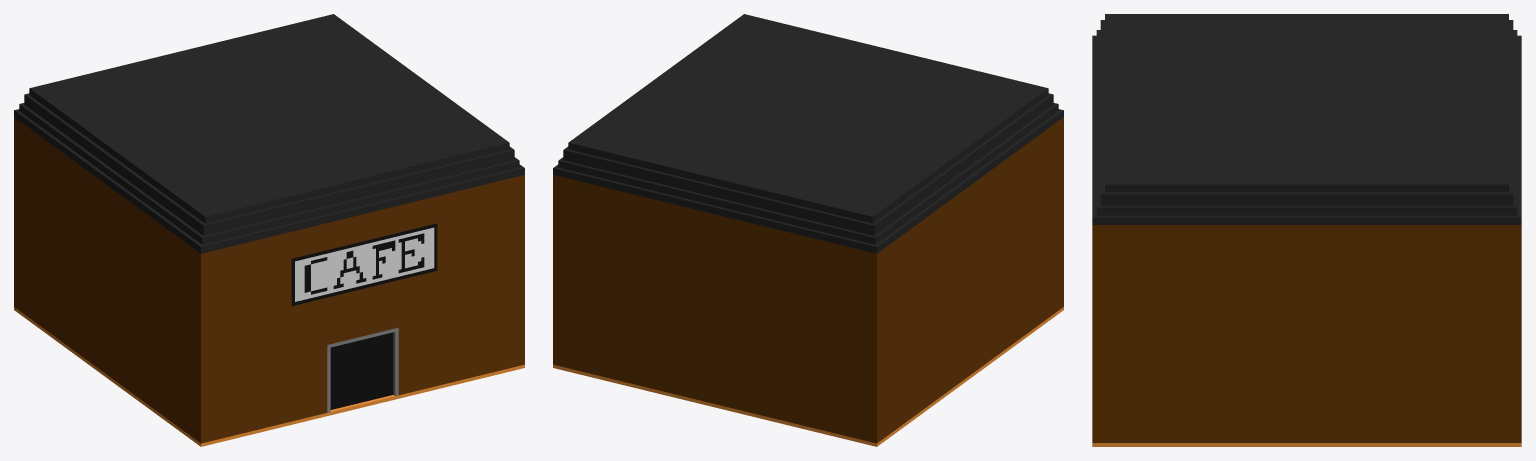
Rendered from Café filled.obj.
3 views of the same model, side by side, from view 1: azimuth 30°, elevation 25°; view 2: azimuth 150°, elevation 25°; view 3: azimuth 270°, elevation 25° (orthographic). The views are drawn at different scales.
Visible parts, largest first — view 1: filled; view 2: filled; view 3: filled.
Part boxes in pixels (x1,y1,x2,y2): filled: [14, 14, 524, 446]; filled: [553, 14, 1063, 446]; filled: [1092, 14, 1521, 446].
Size of the model in its own units: 10 by 6.6 by 10.
